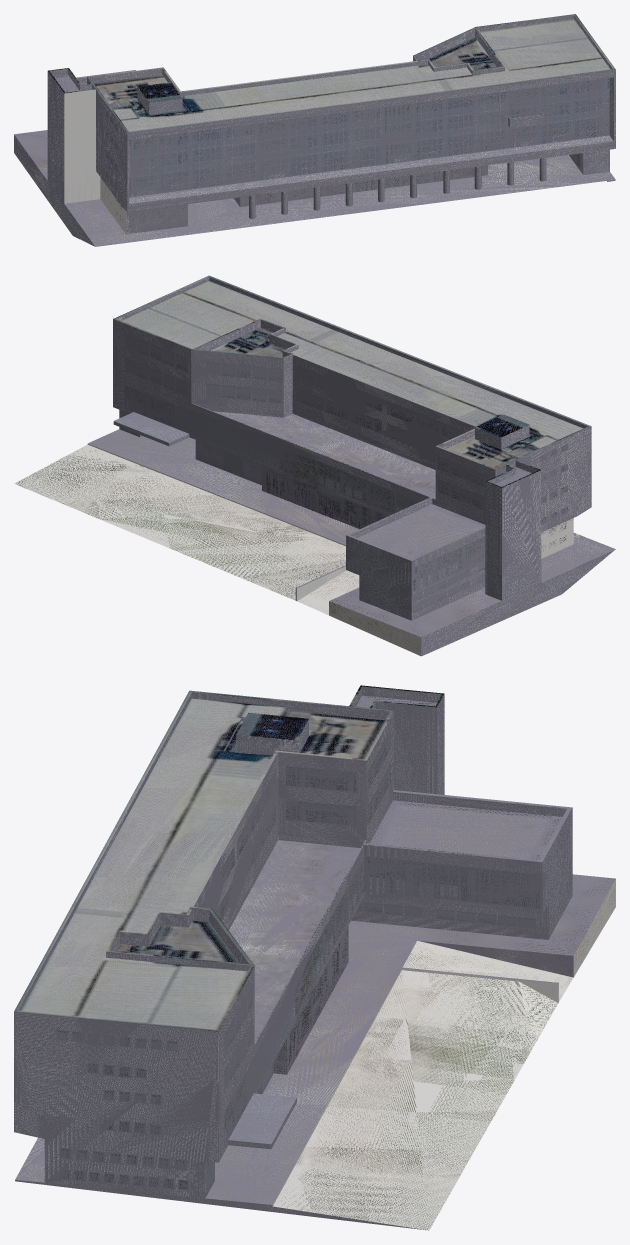
The model's file is araucaria.fbx.
The picture shows the model from 3 angles, top to bottom: view 1: azimuth 30°, elevation 25°; view 2: azimuth 150°, elevation 25°; view 3: azimuth 270°, elevation 25°; orthographic projection. The views are drawn at different scales.
Parts seen in each view (by area): view 1: Model; view 2: Model; view 3: Model.
Boxes of the visible parts, <box> form: Model: <box>14,14,615,246</box>; Model: <box>14,275,615,656</box>; Model: <box>14,685,615,1230</box>.
Bounding box in the file's own units: 128 × 32.43 × 85.22.
